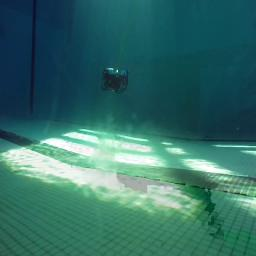front: (102, 66, 130, 92)
